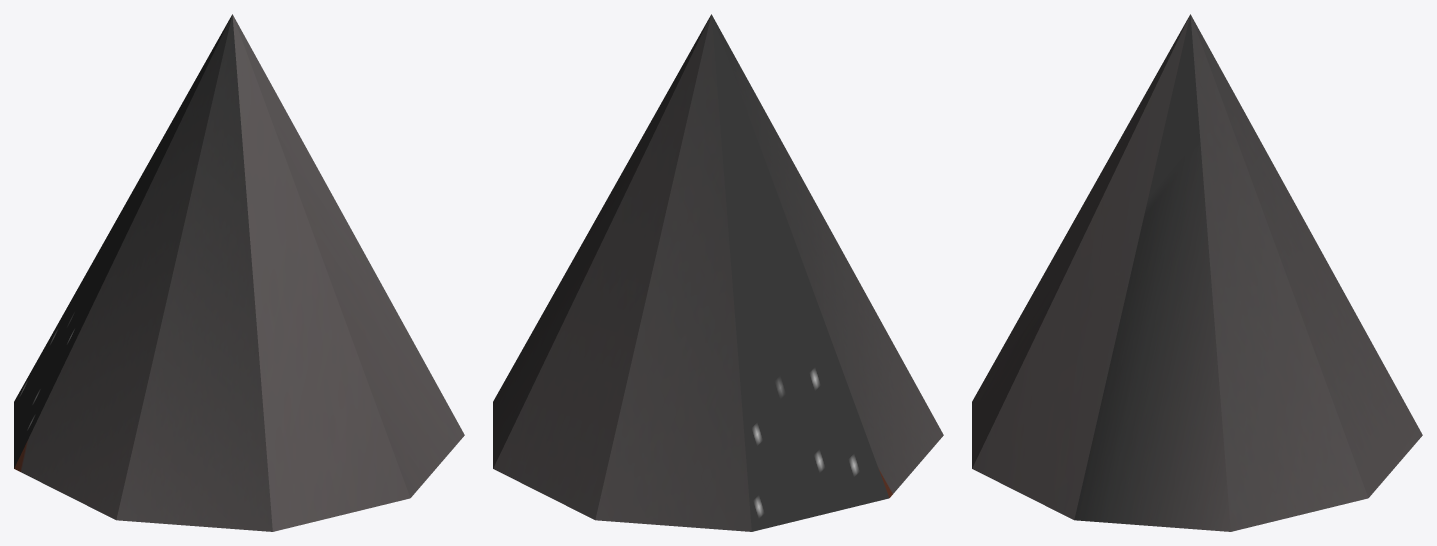
File: mountain.fbx
3 views of the same model, side by side, from view 1: azimuth 30°, elevation 25°; view 2: azimuth 150°, elevation 25°; view 3: azimuth 270°, elevation 25° (orthographic).
Parts seen in each view (by area): view 1: Cone; view 2: Cone; view 3: Cone.
Boxes of the visible parts, x1=… form: Cone: x1=14, y1=14, x2=464, y2=531; Cone: x1=493, y1=14, x2=943, y2=531; Cone: x1=972, y1=14, x2=1422, y2=531.
Size of the model in its own units: 197 by 200 by 194.
